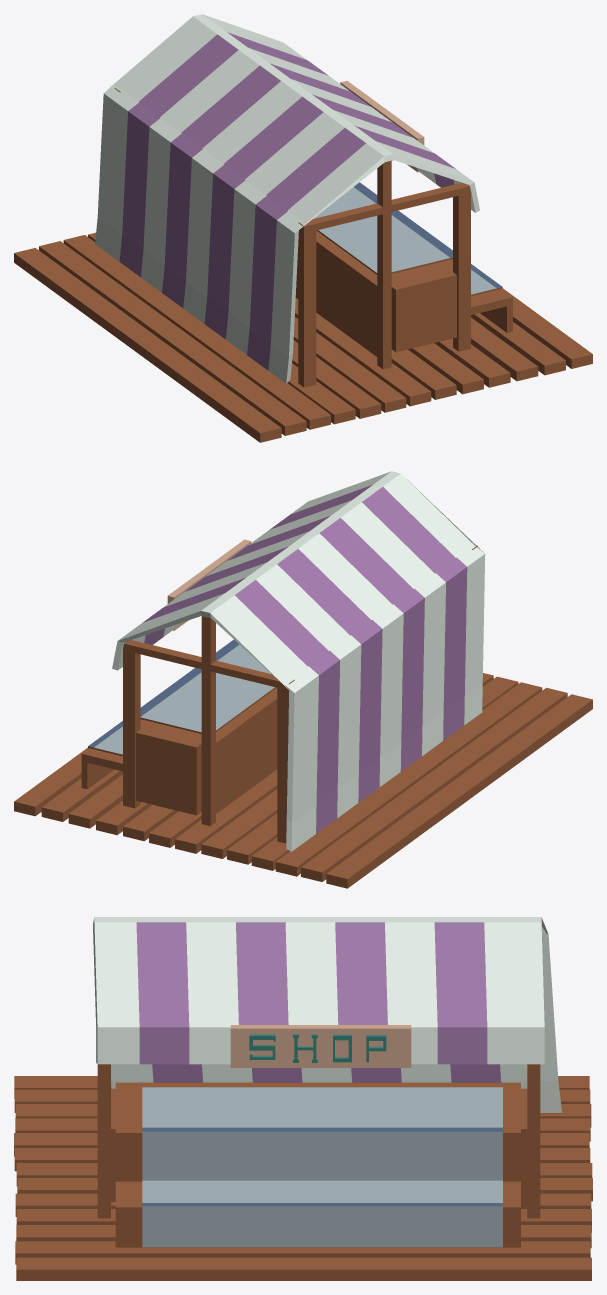
The model's file is minishop (1).fbx.
3 renders of one model, top to bottom at view 1: azimuth 30°, elevation 25°; view 2: azimuth 150°, elevation 25°; view 3: azimuth 270°, elevation 25°, orthographic. The views are drawn at different scales.
Visible parts, largest first — view 1: Cube.035, Cube.037, Cube.036, Cube.022, Cube.023, Cube.024, Cube.038, Cube.028, Cube.027, Cube.034, Cube.033, Cube.026 (+6 smaller); view 2: Cube.035, Cube.037, Cube.022, Cube.023, Cube.024, Cube.038, Cube.028, Cube.027, Cube.034, Cube.033, Cube.025, Cube.032 (+5 smaller); view 3: Cube.035, Cube.038, Cube.034, Cube.037, Cube.033, Cube.039, Cube.032, Cube.031, Cube.030, Cube.036, Cube.029, Cube.027 (+7 smaller).
Boxes of the visible parts, bbox=[...] form: Cube.035: bbox=[95, 14, 479, 383]; Cube.037: bbox=[295, 230, 512, 356]; Cube.036: bbox=[298, 161, 470, 387]; Cube.022: bbox=[14, 248, 281, 442]; Cube.023: bbox=[39, 241, 306, 435]; Cube.024: bbox=[63, 235, 330, 429]; Cube.038: bbox=[313, 182, 502, 296]; Cube.028: bbox=[295, 298, 431, 406]; Cube.027: bbox=[293, 316, 406, 412]; Cube.034: bbox=[502, 288, 592, 368]; Cube.033: bbox=[471, 313, 565, 375]; Cube.026: bbox=[292, 340, 381, 418]; Cube.035: bbox=[112, 471, 485, 851]; Cube.037: bbox=[81, 688, 277, 815]; Cube.022: bbox=[326, 694, 592, 888]; Cube.023: bbox=[301, 687, 567, 881]; Cube.024: bbox=[275, 682, 542, 876]; Cube.038: bbox=[88, 639, 276, 756]; Cube.028: bbox=[175, 769, 277, 853]; Cube.027: bbox=[201, 789, 277, 858]; Cube.034: bbox=[14, 747, 87, 816]; Cube.033: bbox=[41, 769, 122, 821]; Cube.025: bbox=[251, 676, 518, 870]; Cube.032: bbox=[68, 774, 122, 828]; Cube.035: bbox=[93, 917, 561, 1218]; Cube.038: bbox=[142, 1087, 502, 1247]; Cube.034: bbox=[16, 1257, 591, 1280]; Cube.037: bbox=[111, 1082, 527, 1247]; Cube.033: bbox=[15, 1241, 590, 1264]; Cube.039: bbox=[230, 1025, 411, 1067]; Cube.032: bbox=[16, 1225, 591, 1248]; Cube.031: bbox=[16, 1209, 591, 1232]; Cube.030: bbox=[15, 1193, 591, 1216]; Cube.036: bbox=[97, 1064, 110, 1218]; Cube.029: bbox=[17, 1178, 592, 1201]; Cube.027: bbox=[14, 1148, 590, 1171].
Size of the model in its own units: 1504 by 973 by 1934.
